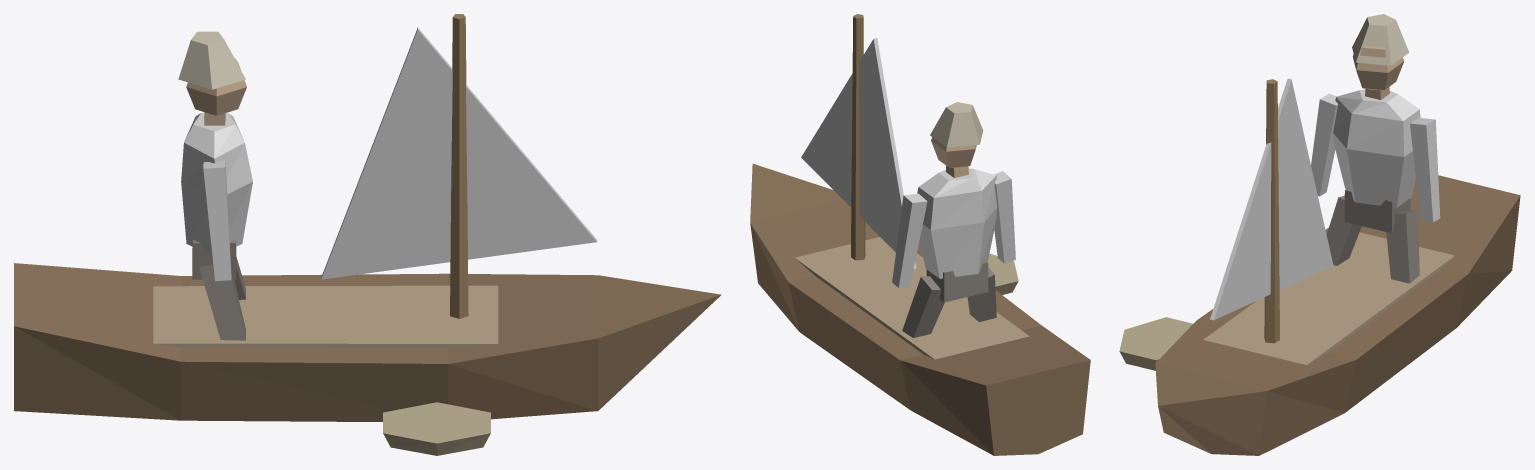
The model's file is workboat.glb.
3 views of the same model, side by side, from view 1: azimuth 30°, elevation 25°; view 2: azimuth 150°, elevation 25°; view 3: azimuth 270°, elevation 25° (orthographic). The views are drawn at different scales.
Visible parts, largest first — view 1: LOD0; view 2: LOD0; view 3: LOD0.
Boxes of the visible parts, x1=… form: LOD0: x1=14, y1=14, x2=721, y2=455; LOD0: x1=750, y1=14, x2=1090, y2=455; LOD0: x1=1119, y1=14, x2=1520, y2=455.
Size of what is drawn, in the model's own units: 1.46 by 0.94 by 1.04.
